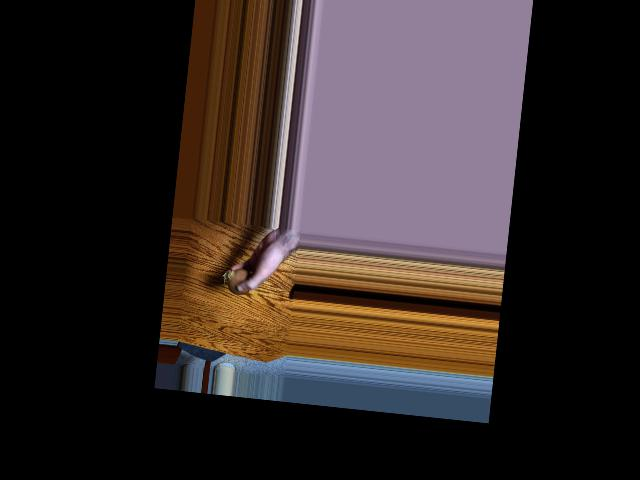onion: (228, 271, 251, 294)
